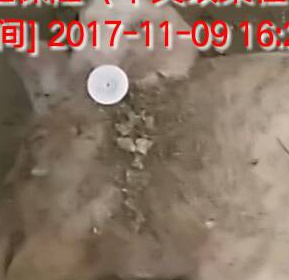text: (77, 55, 140, 116)
